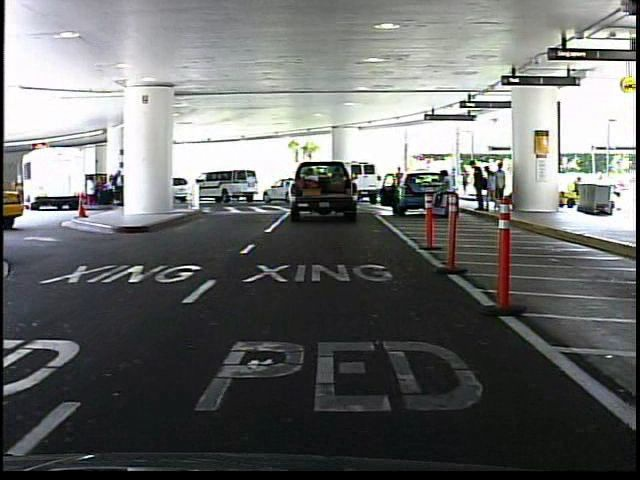person: (436, 163, 457, 212), (392, 164, 408, 204)
